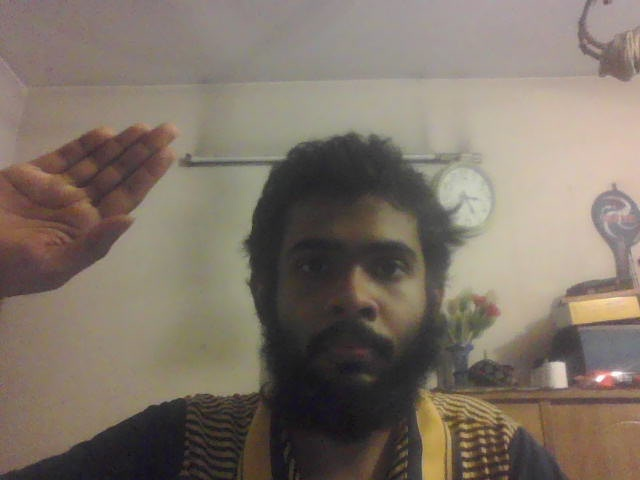Hello: (1, 121, 184, 296)
